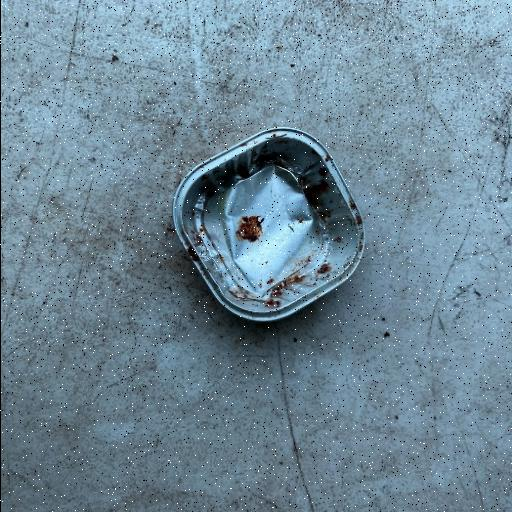Metal: (170, 125, 366, 323)
